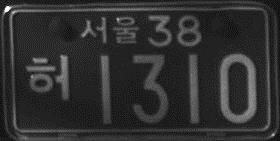0: (218, 51, 258, 122)
1: (94, 52, 117, 128), (186, 51, 206, 127)
3: (128, 51, 170, 126), (145, 13, 173, 48)
8: (176, 13, 203, 47)
서울_O: (78, 14, 139, 44)
허: (25, 51, 72, 102)
